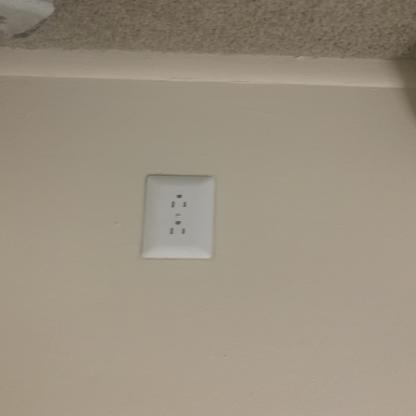OUTLET: (141, 174, 216, 260)
